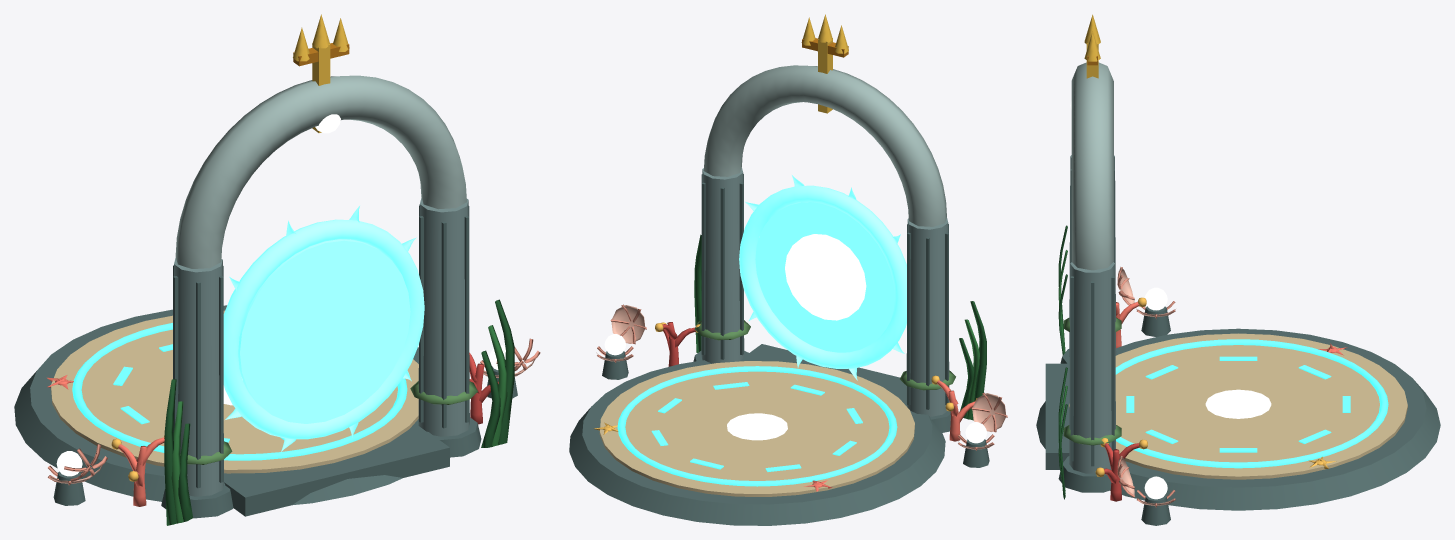
The model's file is TideGate.glb.
3 renders of one model, left to right at view 1: azimuth 30°, elevation 25°; view 2: azimuth 150°, elevation 25°; view 3: azimuth 270°, elevation 25°, orthographic. The views are drawn at different scales.
Parts seen in each view (by area): view 1: Body, Water, PortalRing, Tide, GlowCore; view 2: Body, Water, PortalRing, GlowCore, Tide; view 3: Body, Tide, GlowCore.
Part boxes in pixels (x1=…): Body: x1=14, y1=14, x2=540, y2=525; Water: x1=238, y1=239, x2=410, y2=423; PortalRing: x1=223, y1=206, x2=424, y2=452; Tide: x1=72, y1=323, x2=407, y2=460; GlowCore: x1=56, y1=114, x2=514, y2=476; Body: x1=569, y1=14, x2=1007, y2=525; Water: x1=755, y1=202, x2=894, y2=352; PortalRing: x1=739, y1=175, x2=906, y2=380; GlowCore: x1=604, y1=234, x2=986, y2=443; Tide: x1=617, y1=366, x2=897, y2=486; Body: x1=1036, y1=14, x2=1440, y2=525; Tide: x1=1115, y1=339, x2=1388, y2=468; GlowCore: x1=1070, y1=101, x2=1271, y2=499.
Size of the model in its own units: 20.91 by 19.29 by 17.2.
5 materials, 1 textured.
